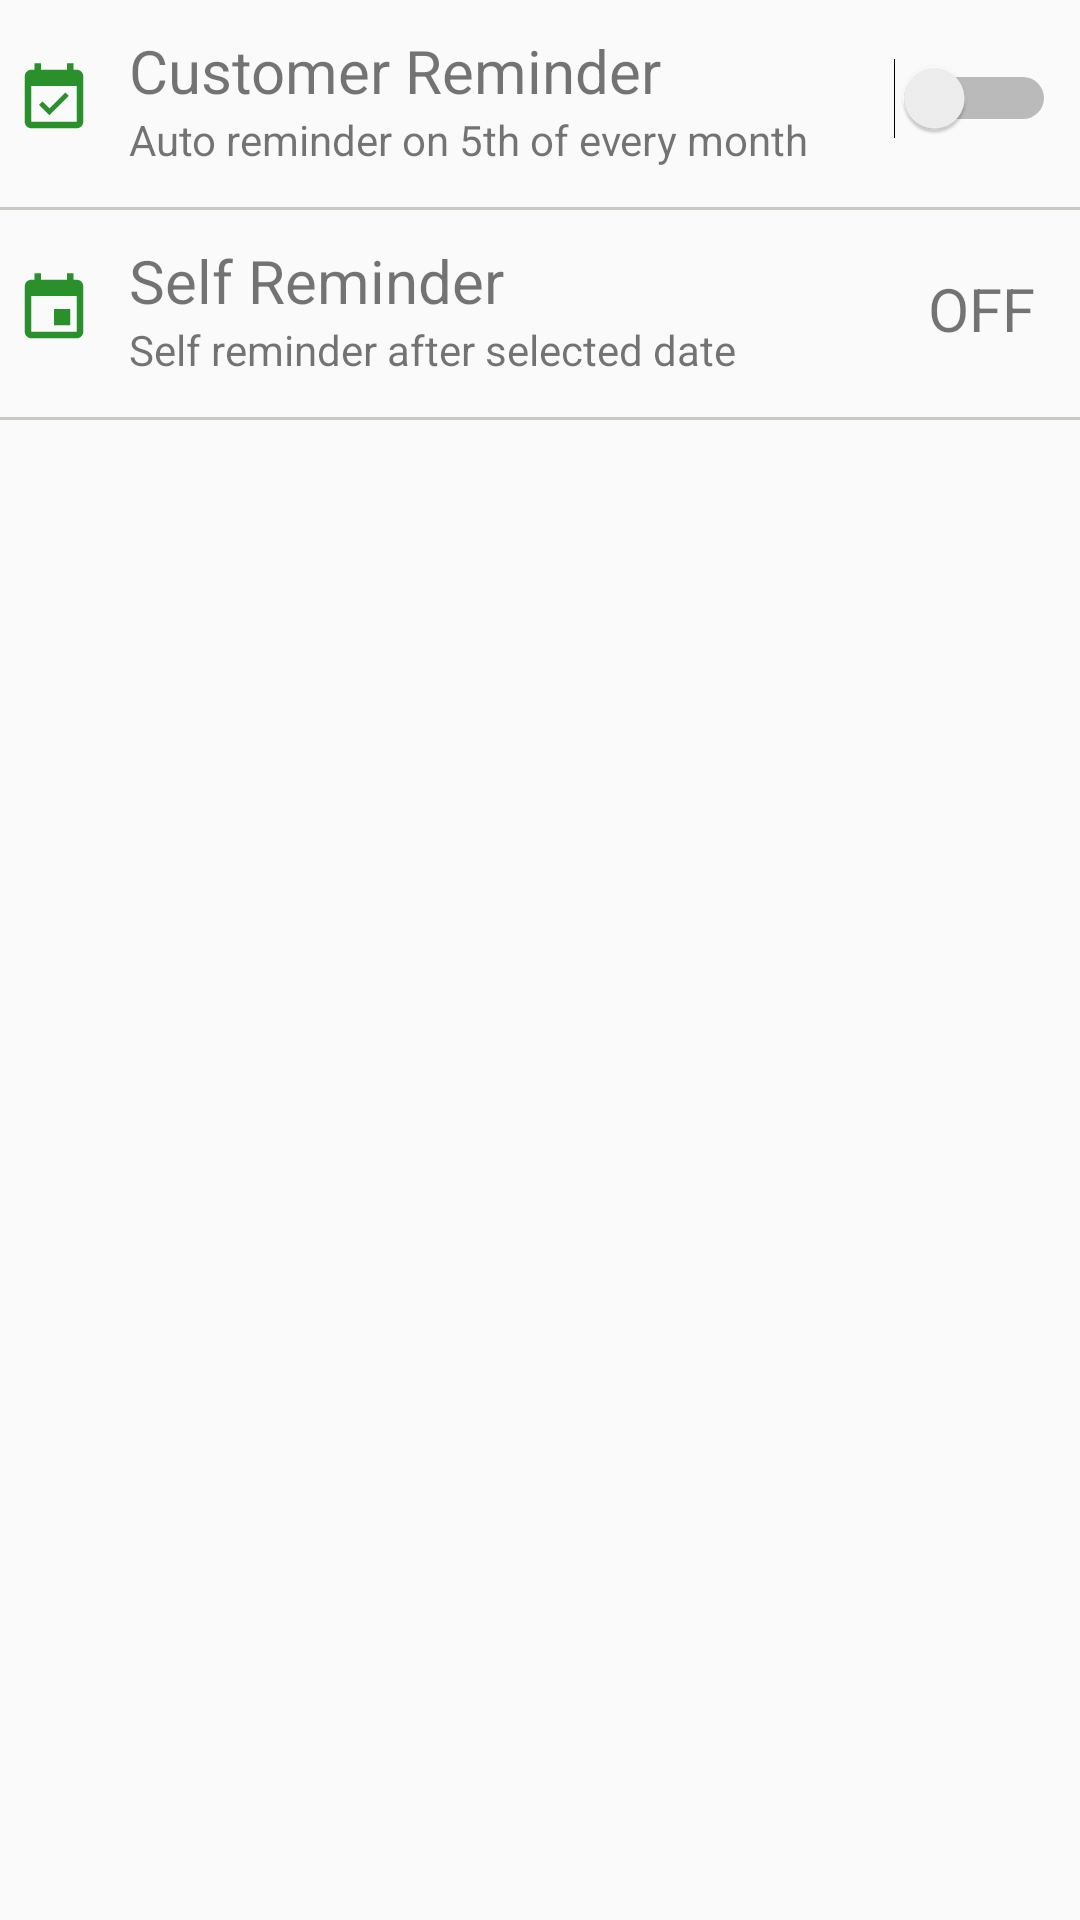

Where icons sit on this 1080×1920 app screen, as rect(x1, y1, x2, y2):
event: rect(24, 273, 84, 339)
event available: rect(24, 63, 84, 129)
